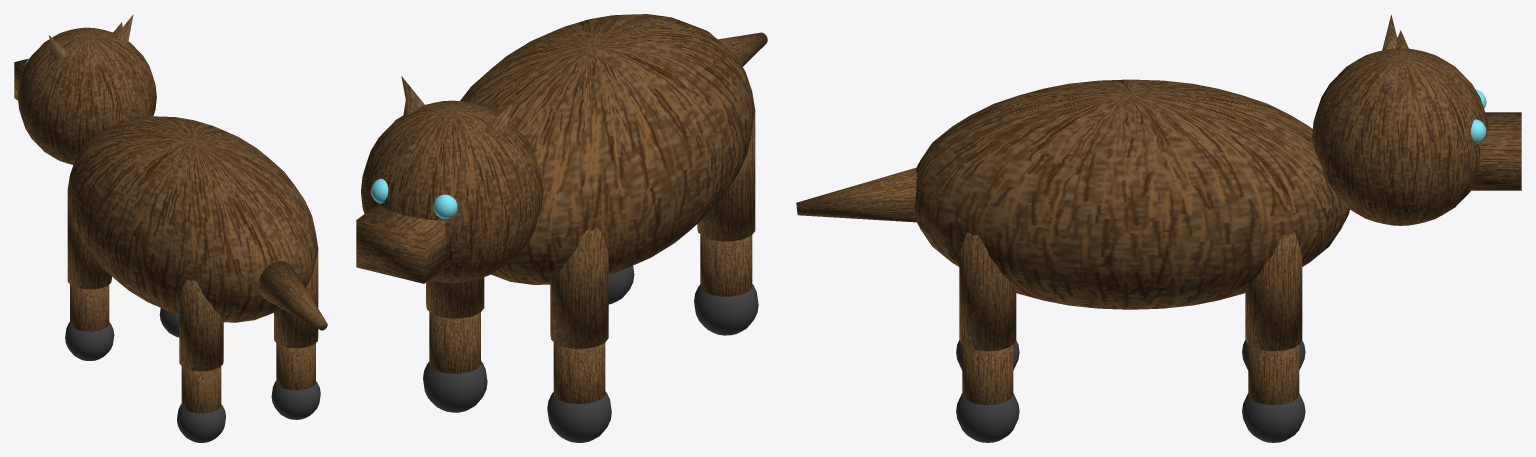
The model's file is grotto-bull.glb.
3 renders of one model, left to right at view 1: azimuth 30°, elevation 25°; view 2: azimuth 150°, elevation 25°; view 3: azimuth 270°, elevation 25°, orthographic. The views are drawn at different scales.
Parts seen in each view (by area): view 1: Body, Head, LegUpper, Tail, LegUpper.001, LegLower, LegUpper.002, LegLower.001, LegLower.002, Paw.002, Paw.001, Paw (+1 smaller); view 2: Body, Head, LegUpper.001, Snout, LegUpper, LegLower, LegLower.001, LegLower.003, Paw, Paw.003, Paw.001, LegUpper.003 (+3 smaller); view 3: Body, Head, LegUpper.003, LegUpper.002, Tail, Snout, LegLower.003, LegLower.002, Paw.002, Paw.003.
Boxes of the visible parts, <box> form: Body: <box>67,116,318,322</box>; Head: <box>17,27,156,164</box>; LegUpper: <box>179,279,223,371</box>; Tail: <box>259,261,327,330</box>; LegUpper.001: <box>67,191,111,289</box>; LegLower: <box>181,366,221,413</box>; LegUpper.002: <box>274,247,318,348</box>; LegLower.001: <box>70,284,109,331</box>; LegLower.002: <box>276,343,315,390</box>; Paw.002: <box>271,381,320,419</box>; Paw.001: <box>65,322,114,360</box>; Paw: <box>177,404,225,442</box>; Body: <box>460,14,755,284</box>; Head: <box>361,100,543,282</box>; LegUpper.001: <box>550,228,608,348</box>; Snout: <box>356,204,450,283</box>; LegUpper: <box>697,112,755,241</box>; LegLower: <box>700,235,752,296</box>; LegLower.001: <box>553,342,605,403</box>; LegLower.003: <box>429,312,480,373</box>; Paw: <box>694,284,758,335</box>; Paw.003: <box>423,361,487,412</box>; Paw.001: <box>547,391,611,442</box>; LegUpper.003: <box>426,277,484,318</box>; Body: <box>914,79,1349,309</box>; Head: <box>1312,48,1488,225</box>; LegUpper.003: <box>1245,232,1302,351</box>; LegUpper.002: <box>959,232,1016,351</box>; Tail: <box>796,167,916,222</box>; Snout: <box>1469,112,1521,190</box>; LegLower.003: <box>1248,345,1299,405</box>; LegLower.002: <box>962,345,1013,405</box>; Paw.002: <box>956,393,1019,442</box>; Paw.003: <box>1242,393,1305,442</box>.
Size of the model in its own units: 0.6392 by 0.9781 by 1.74.
4 materials, 2 textured.
